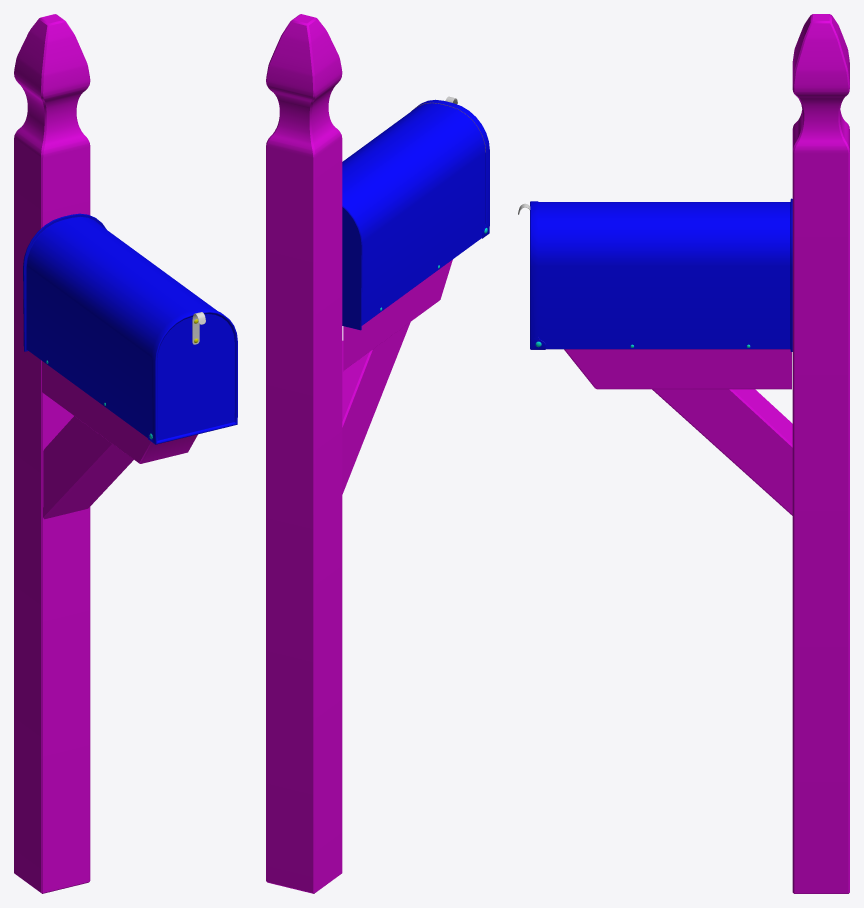
The model's file is Mailbox.glb.
3 renders of one model, left to right at view 1: azimuth 30°, elevation 25°; view 2: azimuth 150°, elevation 25°; view 3: azimuth 270°, elevation 25°, orthographic.
Parts seen in each view (by area): view 1: Mailbox; view 2: Mailbox; view 3: Mailbox.
Boxes of the visible parts, bbox=[...] form: Mailbox: bbox=[14, 14, 237, 893]; Mailbox: bbox=[266, 14, 489, 893]; Mailbox: bbox=[518, 14, 849, 893].
Size of the model in its own units: 0.1405 by 1.33 by 0.4607.
